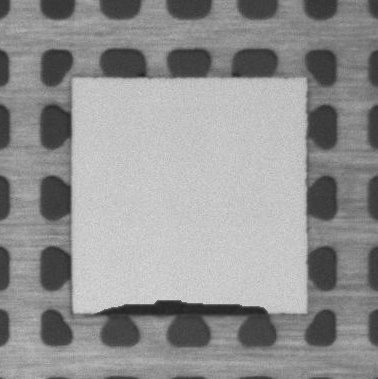DIE_BROKEN: (102, 299, 268, 318)
